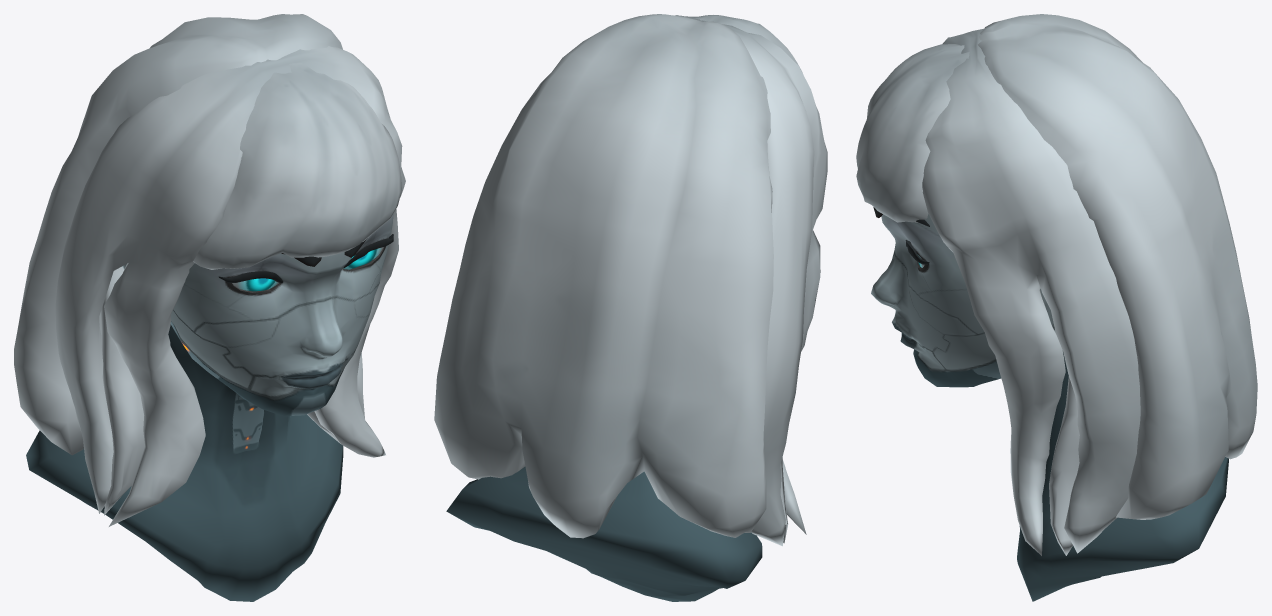
Rendered from android_-_head_bust.glb.
3 views of the same model, side by side, from view 1: azimuth 30°, elevation 25°; view 2: azimuth 150°, elevation 25°; view 3: azimuth 270°, elevation 25° (orthographic). The views are drawn at different scales.
Parts seen in each view (by area): view 1: HeadBust_HairMid_LOD_0, HeadBust_Face_LOD_0, HeadBust_HairFringe_LOD_0, HeadBust_BackHair_LOD_0, HeadBust_HairStran_LOD_0, HeadBust_EyeLashEyeBrow_LOD_0, HeadBust_Eyes_LOD_0; view 2: HeadBust_BackHair_LOD_0, HeadBust_HairMid_LOD_0, HeadBust_Face_LOD_0, HeadBust_HairFringe_LOD_0; view 3: HeadBust_BackHair_LOD_0, HeadBust_HairMid_LOD_0, HeadBust_Face_LOD_0, HeadBust_HairFringe_LOD_0, HeadBust_HairStran_LOD_0.
Part boxes in pixels (x1=…): HeadBust_HairMid_LOD_0: x1=55, y1=46, x2=405, y2=526; HeadBust_Face_LOD_0: x1=26, y1=214, x2=393, y2=601; HeadBust_HairFringe_LOD_0: x1=193, y1=63, x2=401, y2=269; HeadBust_BackHair_LOD_0: x1=14, y1=14, x2=342, y2=455; HeadBust_HairStran_LOD_0: x1=100, y1=266, x2=364, y2=515; HeadBust_EyeLashEyeBrow_LOD_0: x1=218, y1=234, x2=393, y2=283; HeadBust_Eyes_LOD_0: x1=232, y1=247, x2=383, y2=291; HeadBust_BackHair_LOD_0: x1=434, y1=14, x2=773, y2=538; HeadBust_HairMid_LOD_0: x1=675, y1=15, x2=827, y2=546; HeadBust_Face_LOD_0: x1=446, y1=466, x2=762, y2=601; HeadBust_HairFringe_LOD_0: x1=686, y1=15, x2=802, y2=72; HeadBust_BackHair_LOD_0: x1=978, y1=14, x2=1257, y2=519; HeadBust_HairMid_LOD_0: x1=922, y1=28, x2=1140, y2=555; HeadBust_Face_LOD_0: x1=871, y1=214, x2=1228, y2=601; HeadBust_HairFringe_LOD_0: x1=856, y1=44, x2=969, y2=222; HeadBust_HairStran_LOD_0: x1=1049, y1=376, x2=1079, y2=555.
Bounding box in the file's own units: 1.67 × 2.82 × 1.82.
1 material, 1 textured.
